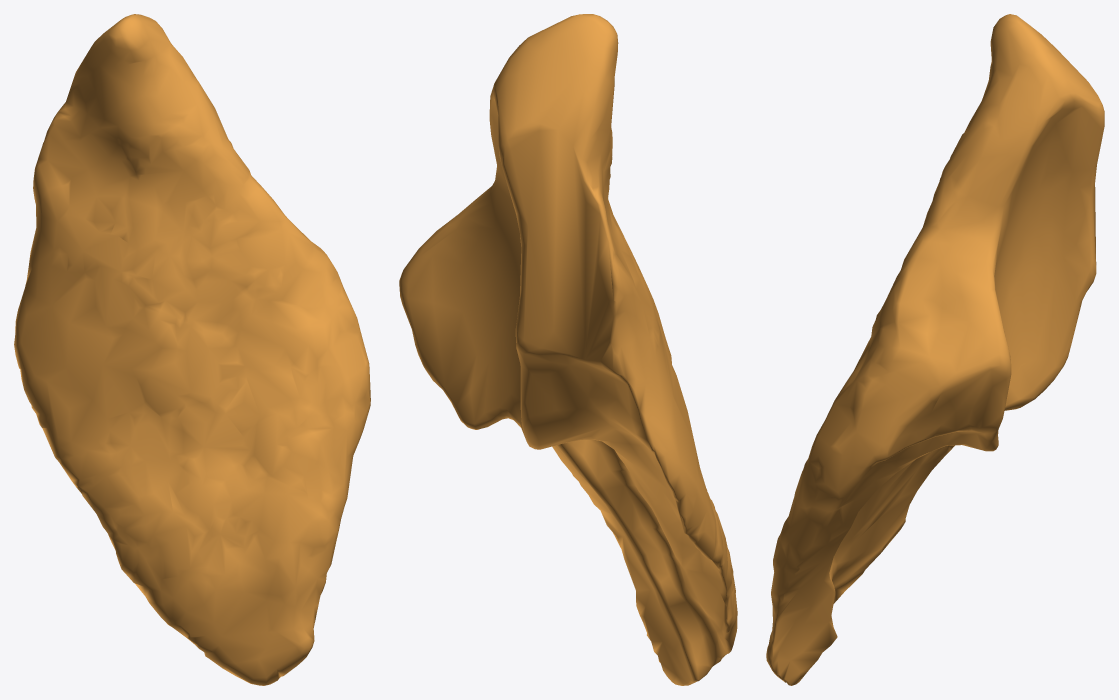
File: linfatico-right-lobe-of-thymus.glb
The picture shows the model from 3 angles, left to right: view 1: azimuth 30°, elevation 25°; view 2: azimuth 150°, elevation 25°; view 3: azimuth 270°, elevation 25°; orthographic projection. The views are drawn at different scales.
Visible parts, largest first — view 1: Right lobe of thymus; view 2: Right lobe of thymus; view 3: Right lobe of thymus.
Boxes of the visible parts, x1,y1,x2,y2 form: Right lobe of thymus: [14, 14, 370, 685]; Right lobe of thymus: [399, 14, 737, 685]; Right lobe of thymus: [766, 14, 1104, 685].
Size of the model in its own units: 0.0236 by 0.0515 by 0.0243.
